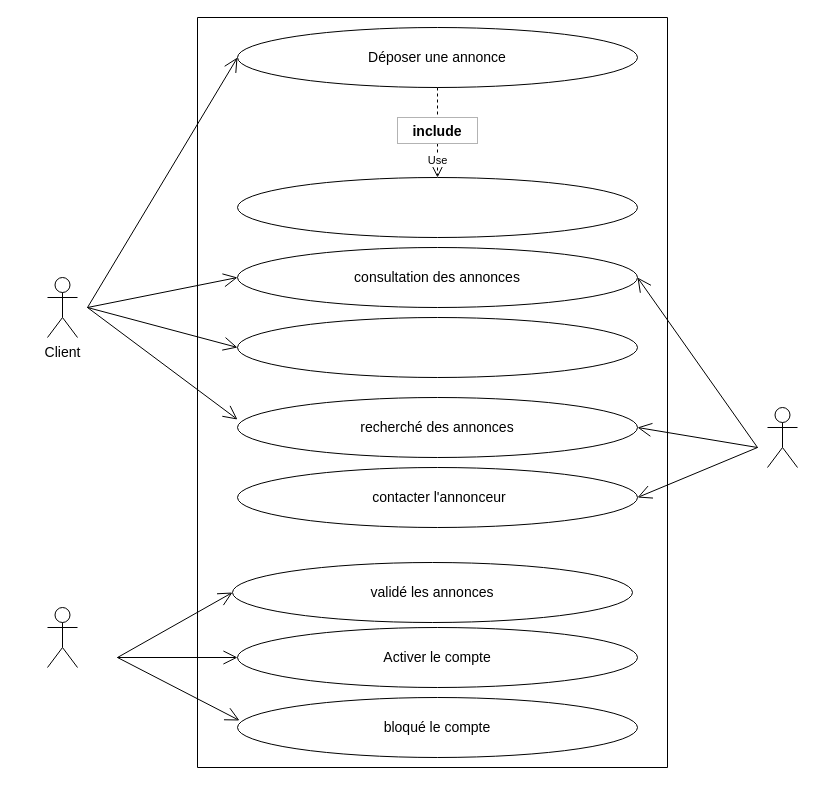
Image size: 822x785. Some labels were removed from this diagram. Here are the shapes that lost their labels. From the top down, the box of each, then its label:
(236, 176, 638, 238): connecté de compte
(236, 316, 638, 378): gérer ses annonces
(766, 406, 798, 468): Visiteur
(46, 606, 78, 668): Administrateur
